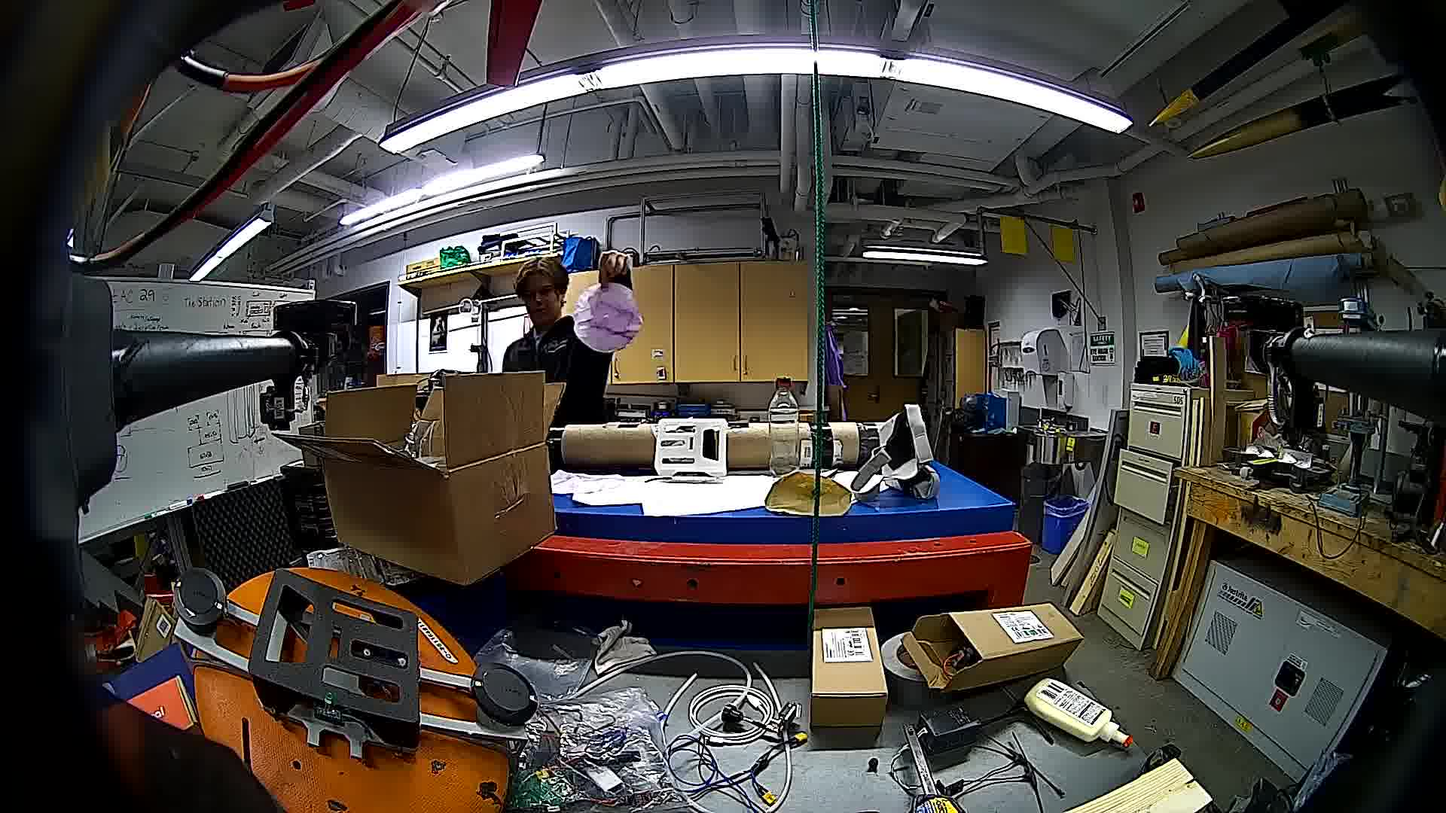Target: (575, 282, 644, 353)
